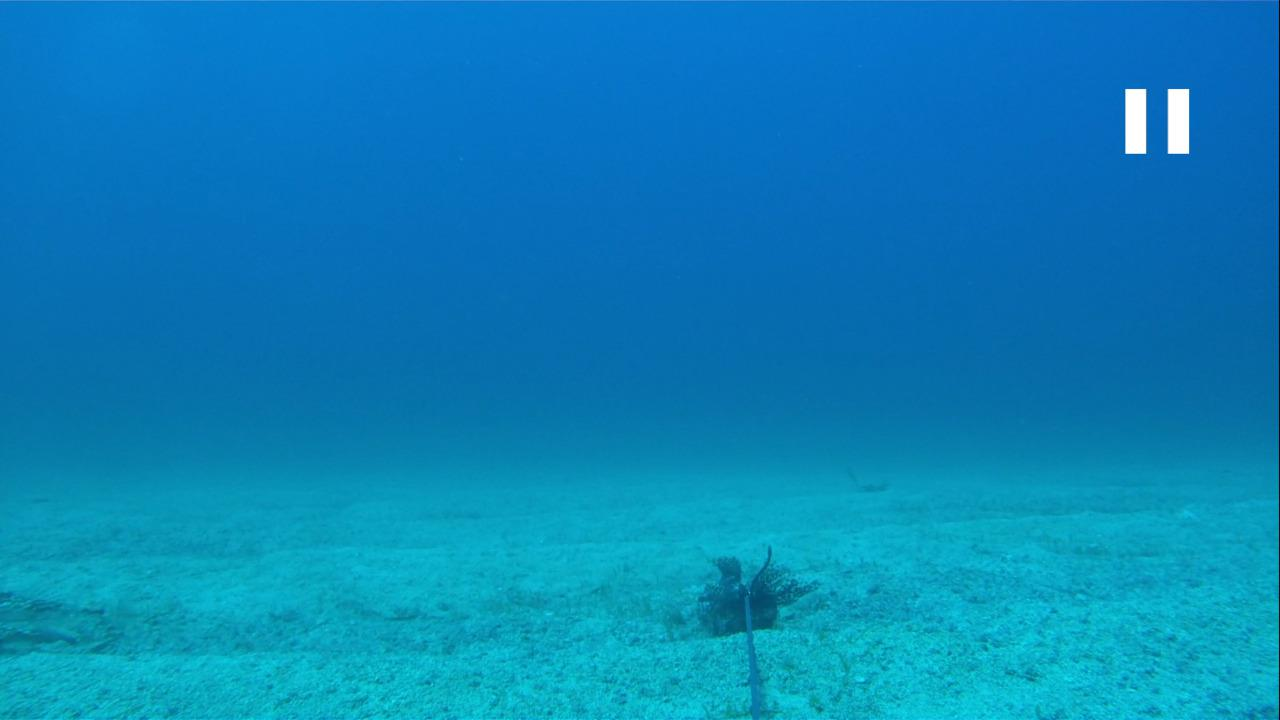dactylopterus: (1, 577, 125, 643)
